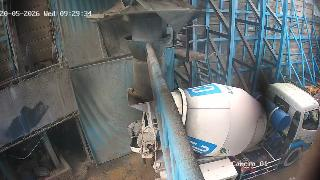cement_mixer_truck: (126, 81, 320, 180)
swing_chute: (125, 37, 171, 99)
